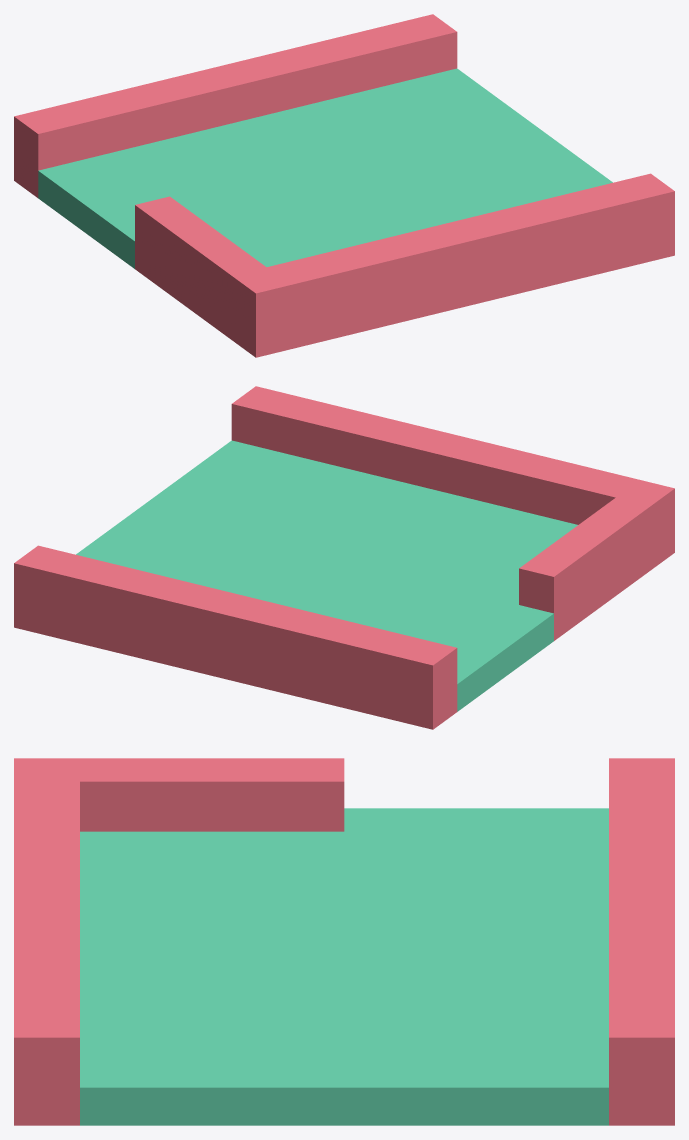
File: WallRight.fbx
3 renders of one model, top to bottom at view 1: azimuth 30°, elevation 25°; view 2: azimuth 150°, elevation 25°; view 3: azimuth 270°, elevation 25°, orthographic. The views are drawn at different scales.
Parts seen in each view (by area): view 1: Borders, wallRight; view 2: Borders, wallRight; view 3: wallRight, Borders.
Boxes of the visible parts, box(x1,y1,x2,y2) form: Borders: box(14, 14, 674, 357); wallRight: box(38, 68, 612, 268); Borders: box(14, 386, 674, 729); wallRight: box(76, 440, 577, 711); wallRight: box(80, 808, 608, 1125); Borders: box(14, 758, 674, 1125).
Size of the model in its own units: 99.99 by 14.67 by 99.99.
